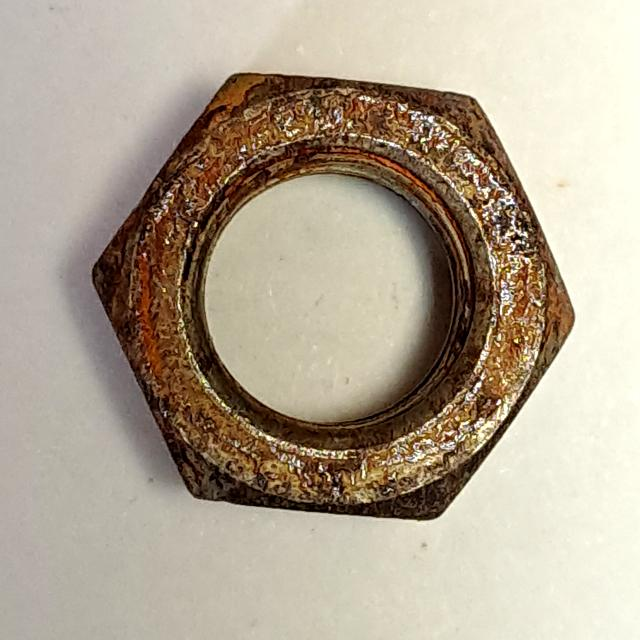Rust: (76, 59, 589, 536)
